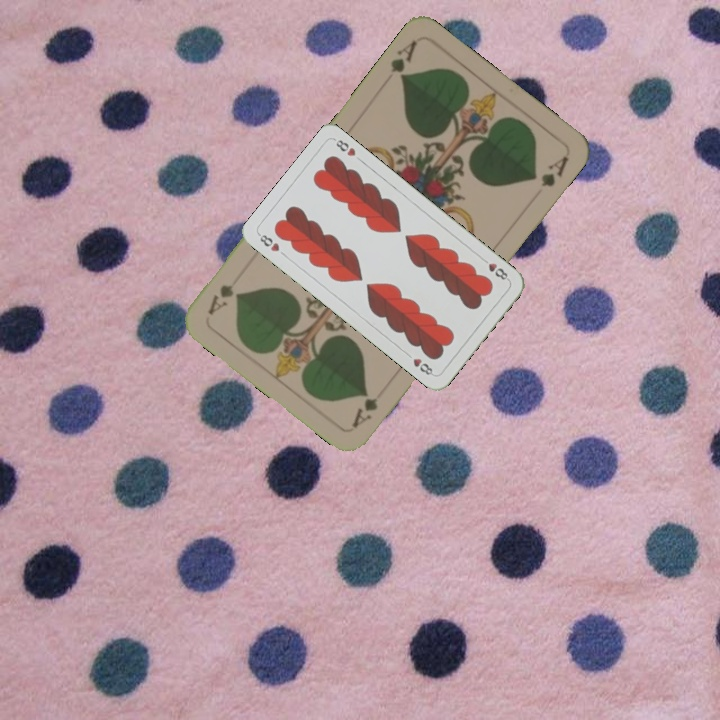GA: (386, 36, 420, 85), (348, 390, 381, 430)
H8: (477, 254, 512, 283), (255, 230, 282, 254)
